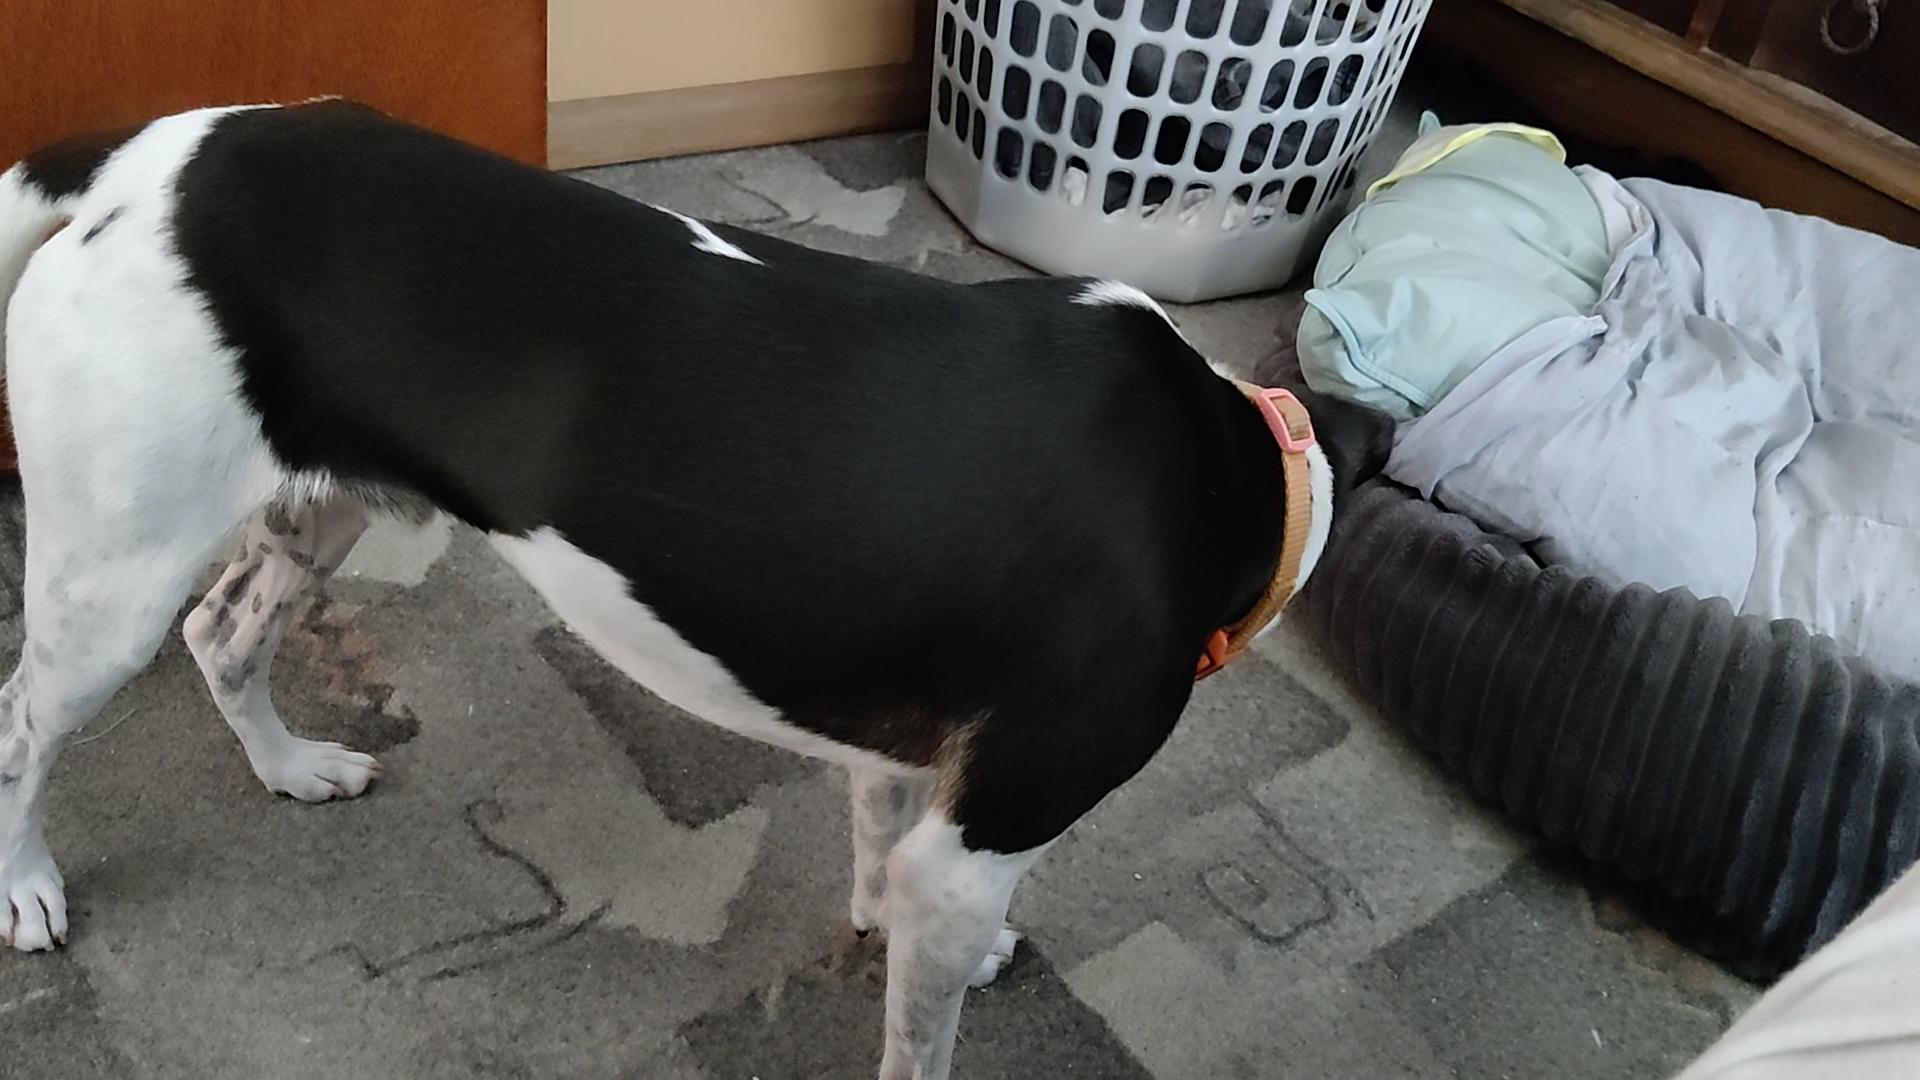Dog: (0, 82, 1406, 1079)
